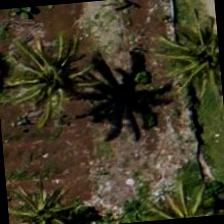Kelapa_Sawit: (0, 23, 95, 122), (149, 18, 223, 114), (4, 160, 87, 223)
